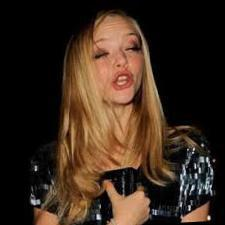Drunk: (94, 18, 142, 101)
